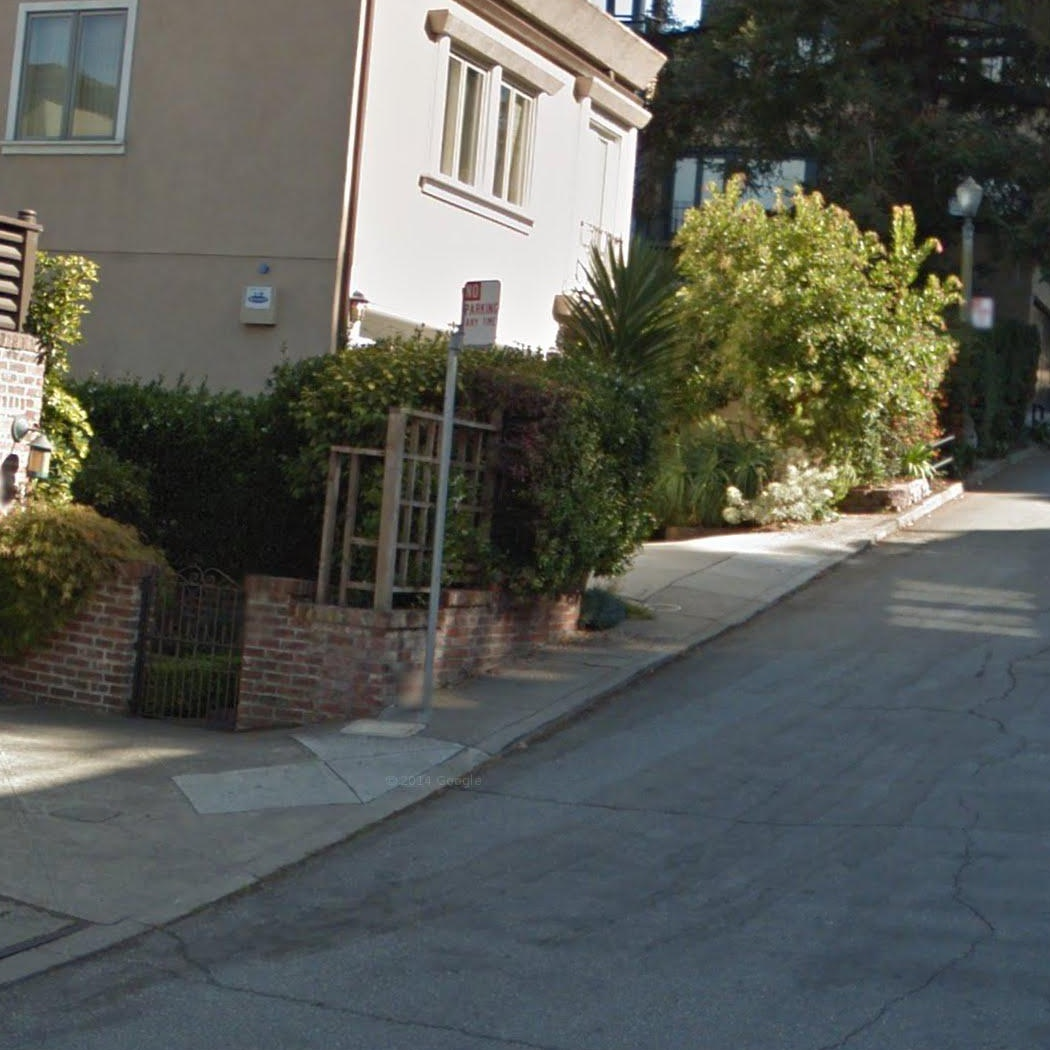No Parking Anytime: (458, 278, 504, 348)
